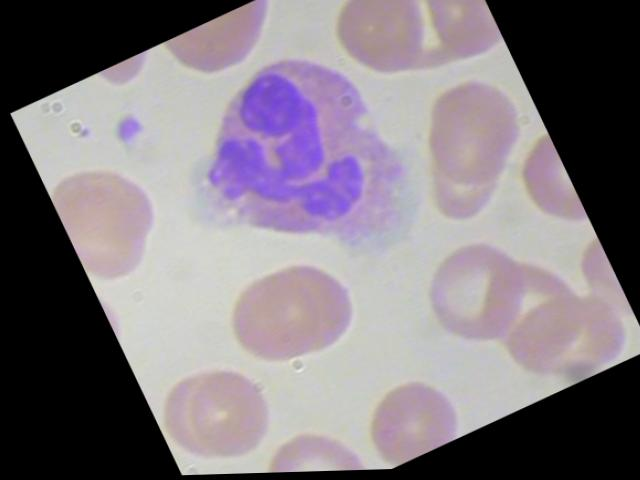Platelets: (95, 100, 156, 160)
Red Blood Cells: (399, 219, 545, 367), (233, 234, 367, 374), (206, 241, 339, 381), (44, 150, 170, 277), (411, 60, 537, 185), (162, 354, 289, 476), (349, 356, 472, 471), (323, 0, 450, 93), (164, 0, 284, 89), (246, 411, 374, 474), (175, 0, 285, 65)
White Blood Cells: (138, 5, 443, 329)
